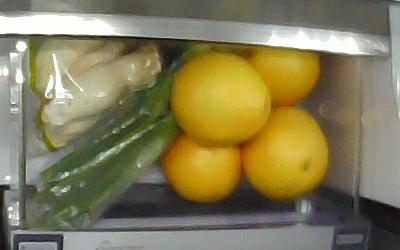grapefruit: (169, 50, 271, 147), (241, 105, 329, 200), (159, 132, 241, 201), (246, 45, 320, 106)
